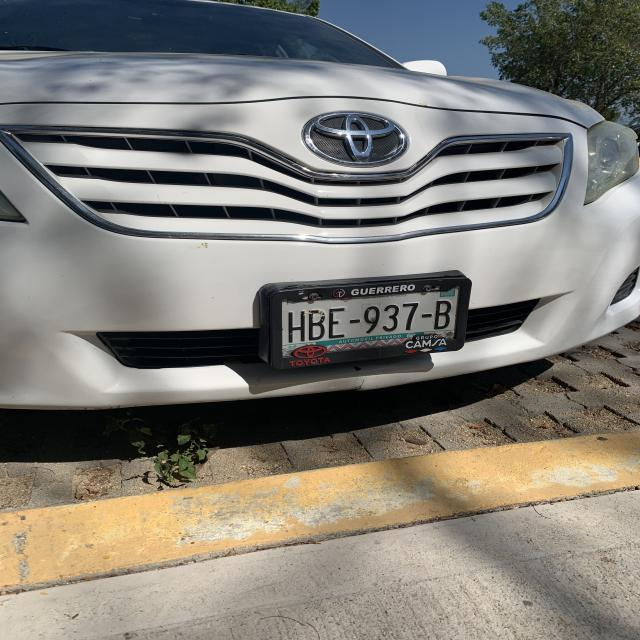placa: (275, 297, 460, 343)
